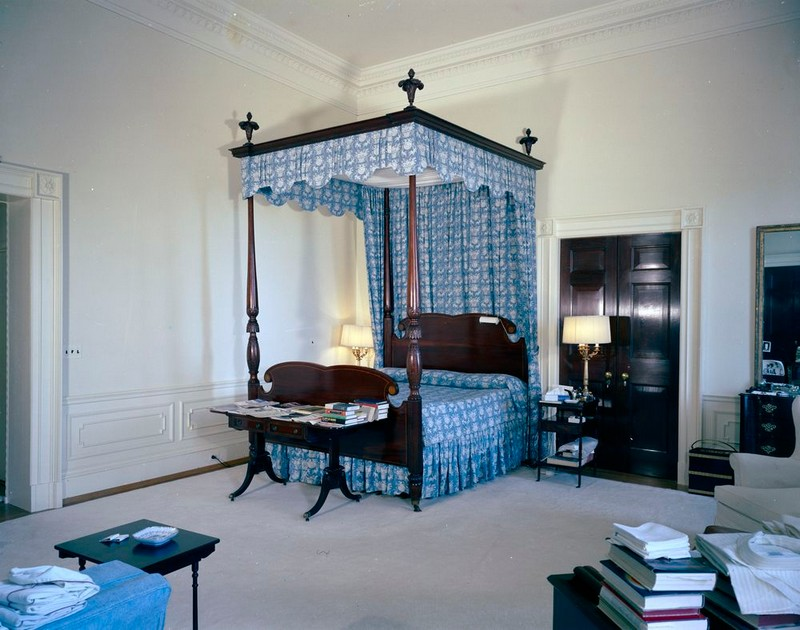bed: (236, 93, 543, 516)
lamp: (558, 312, 619, 400), (332, 324, 377, 364)
sofa: (714, 452, 798, 544)
stool: (56, 513, 217, 624), (540, 382, 612, 499), (736, 384, 800, 461)
